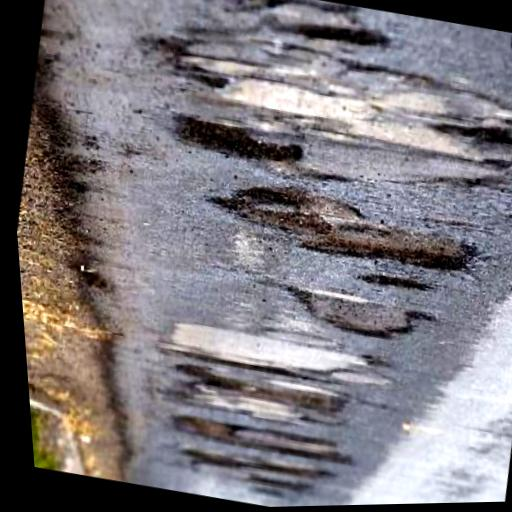pothole: (196, 166, 488, 288), (277, 276, 445, 356), (168, 408, 361, 477), (170, 355, 355, 425), (162, 105, 310, 174), (183, 440, 342, 492), (354, 268, 436, 300)
